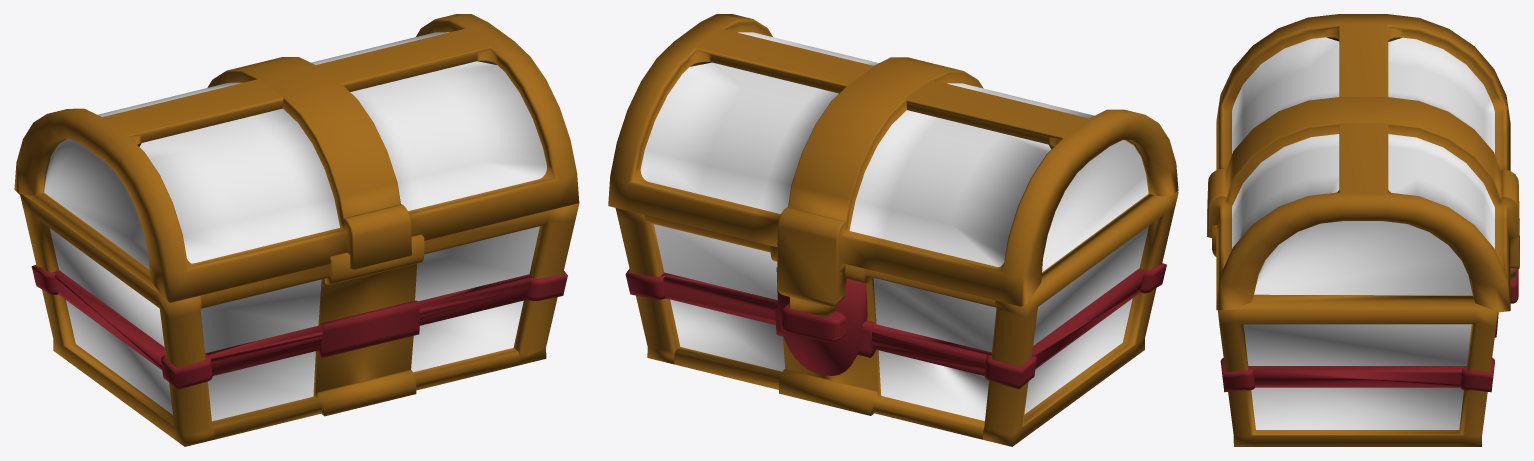
The model's file is pandorasbox 1.fbx.
The picture shows the model from 3 angles, left to right: view 1: azimuth 30°, elevation 25°; view 2: azimuth 150°, elevation 25°; view 3: azimuth 270°, elevation 25°; orthographic projection. The views are drawn at different scales.
Parts seen in each view (by area): view 1: Pandoras box gornji dio, Pandoras box.003; view 2: Pandoras box gornji dio, Pandoras box.003, Pandoras box.004; view 3: Pandoras box gornji dio, Pandoras box.003.
Part boxes in pixels (box(x1,y1,x2,y2)): Pandoras box gornji dio: box(14, 14, 579, 302); Pandoras box.003: box(20, 194, 579, 446); Pandoras box gornji dio: box(608, 14, 1178, 317); Pandoras box.003: box(615, 191, 1178, 446); Pandoras box.004: box(781, 303, 846, 342); Pandoras box gornji dio: box(1207, 14, 1519, 312); Pandoras box.003: box(1212, 225, 1498, 446).
Bounding box in the file's own units: 588 × 371 × 411.
